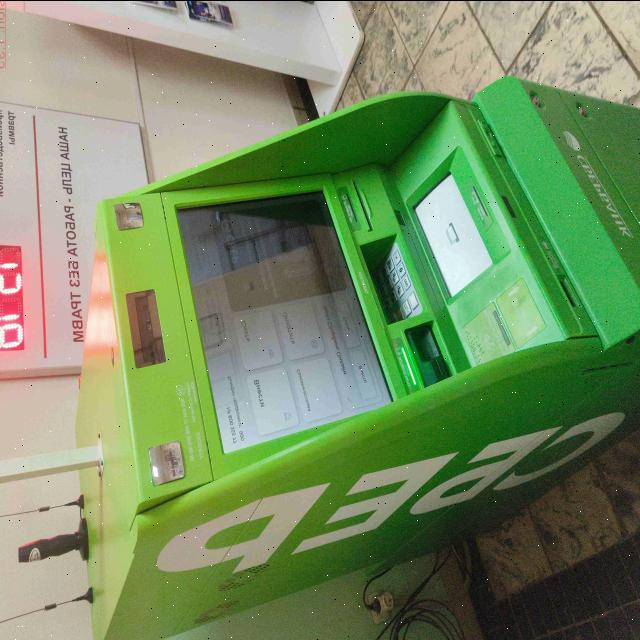bank: (69, 77, 640, 639)
